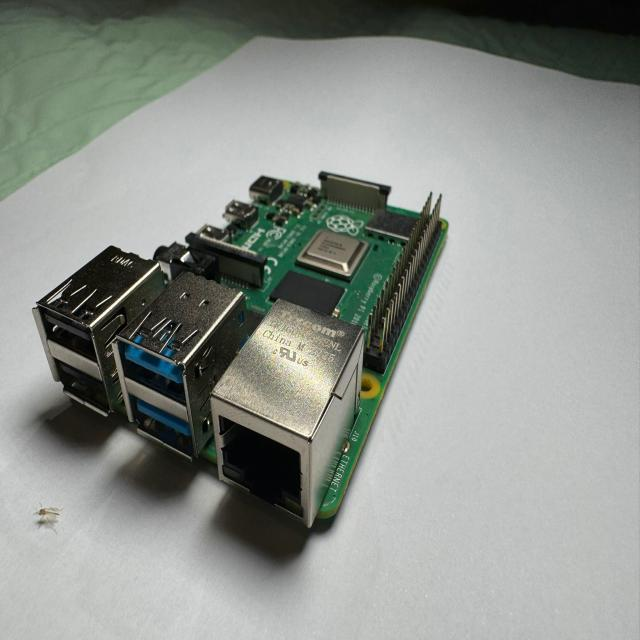CPU: (294, 230, 370, 282)
Ethernet: (205, 295, 369, 538)
GPIO: (365, 193, 451, 405)
RAM: (274, 270, 348, 318)
Raspberry: (32, 172, 449, 532)
micro-hdmi: (220, 198, 256, 236)
